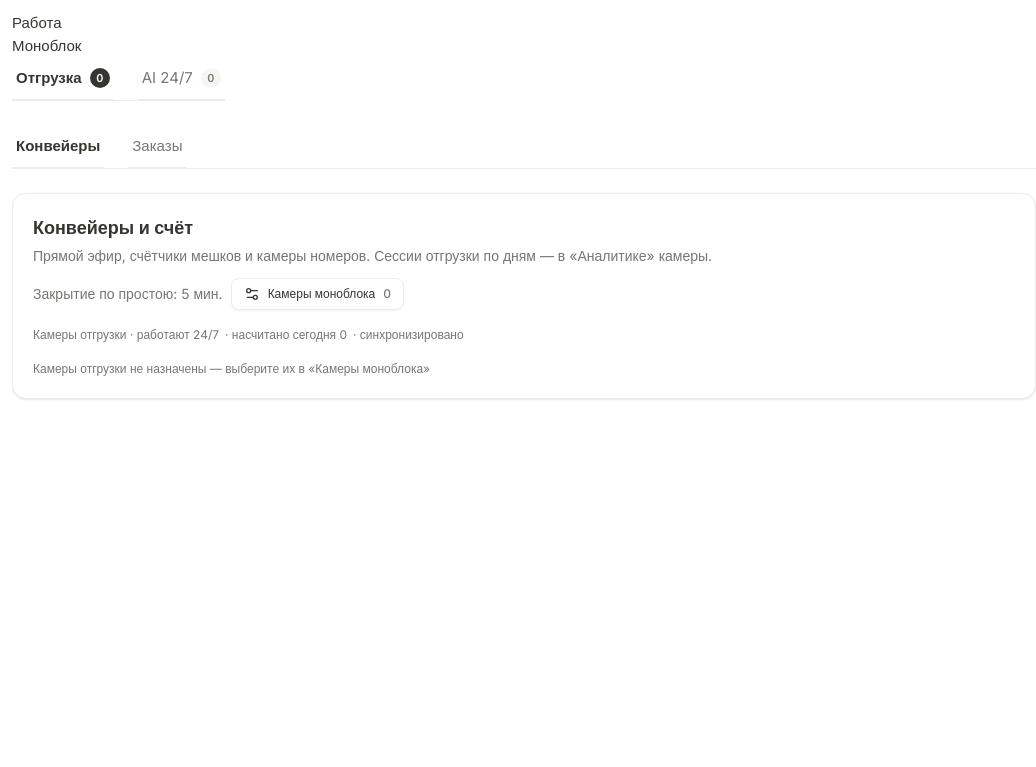
Test case: доступ к AI 24/7 на странице моноблока › separates conveyors from orders and keeps shipping sessions inside camera analytics
The image size is (1036, 767).
Expected: the button "Камеры моноблока 0" is shown, x1=231 y1=278 x2=404 y2=310
Expected: the text "Закрытие по простою: 5 мин." is shown, x1=33 y1=284 x2=223 y2=304
Click the tab "Заказы".
click(157, 147)  # box x1=128 y1=125 x2=186 y2=169
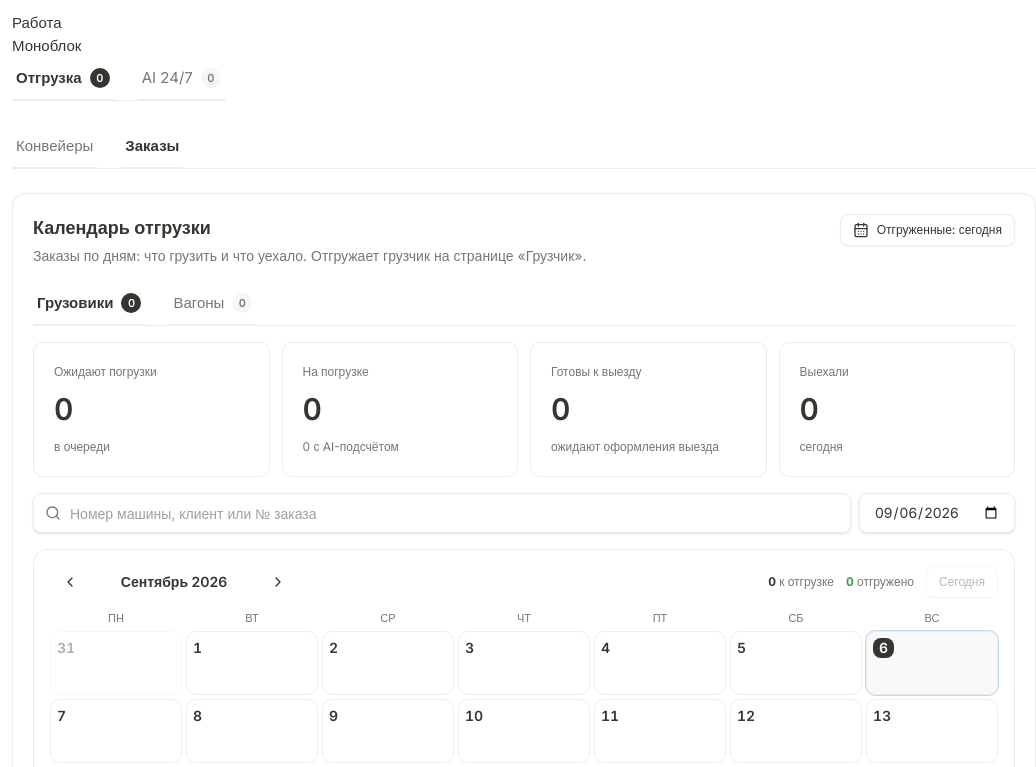
Now the heading "Конвейеры и счёт" is gone
Now the button "Отгруженные: сегодня" is shown, box x1=840 y1=214 x2=1015 y2=246
Now the text "Ожидают погрузки" is shown, box x1=54 y1=363 x2=157 y2=381
Click the tab "Конвейеры".
click(55, 147)  # box x1=12 y1=125 x2=97 y2=169
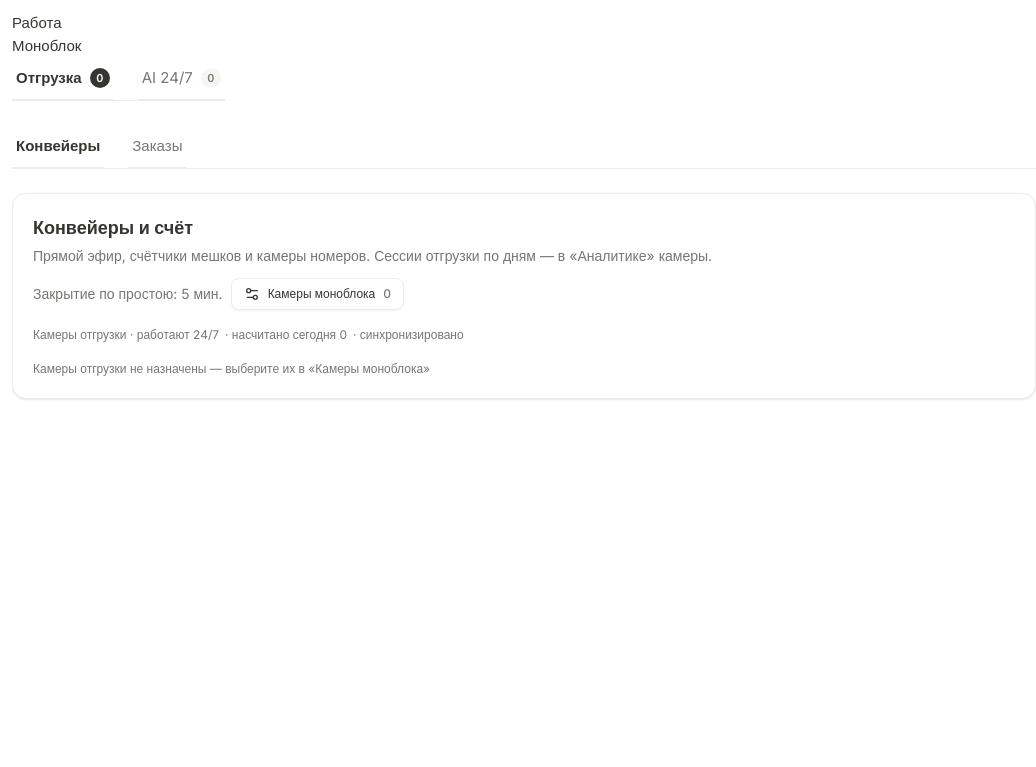
Now the element "Конвейеры и счёт" is shown, box x1=12 y1=193 x2=1035 y2=399
